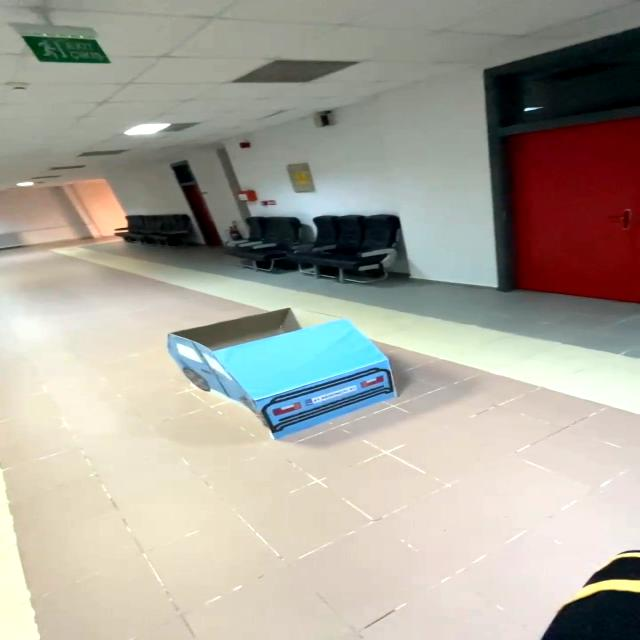blue_car: (156, 302, 424, 448)
